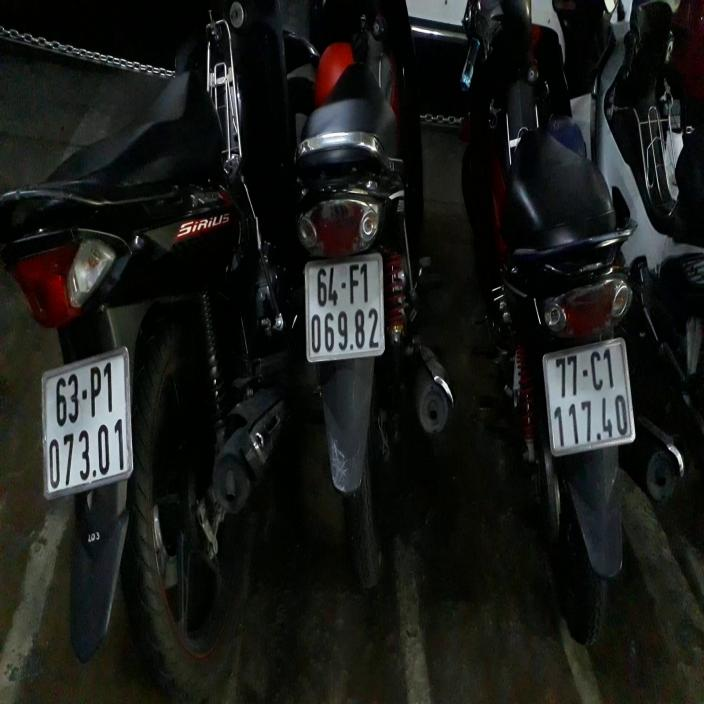numplate: (30, 365, 146, 500), (540, 330, 650, 471), (300, 263, 400, 358)
